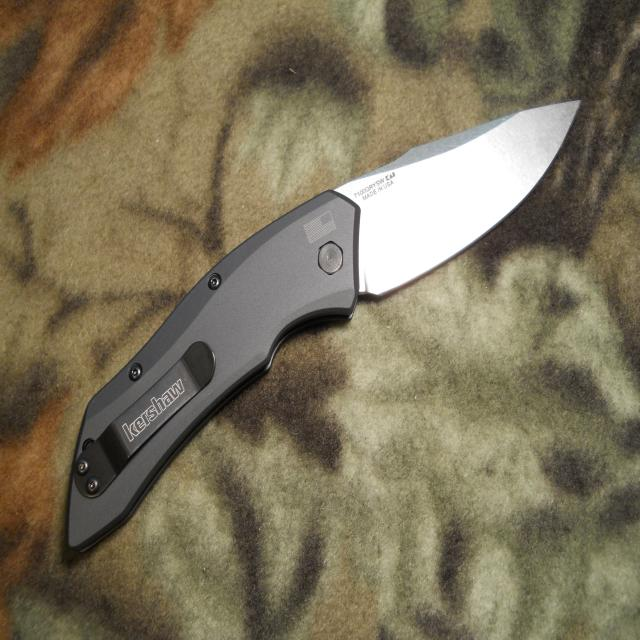knife: (59, 91, 587, 584)
